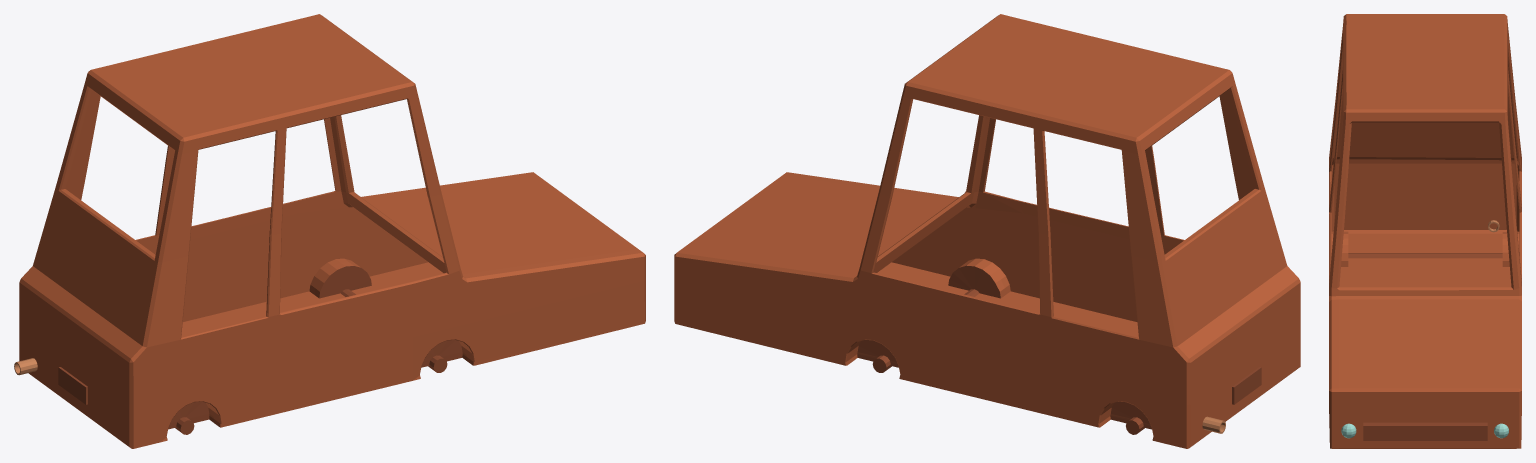
The model's file is Rusty Car.fbx.
3 views of the same model, side by side, from view 1: azimuth 30°, elevation 25°; view 2: azimuth 150°, elevation 25°; view 3: azimuth 270°, elevation 25° (orthographic). The views are drawn at different scales.
Visible parts, largest first — view 1: group7; view 2: group7; view 3: group7.
Part boxes in pixels (left/top/right/bottom): group7: left=14, top=14, right=645, bottom=448; group7: left=674, top=14, right=1300, bottom=448; group7: left=1329, top=14, right=1521, bottom=448.
Bounding box in the file's own units: 2.58 × 1.34 × 0.9325.
